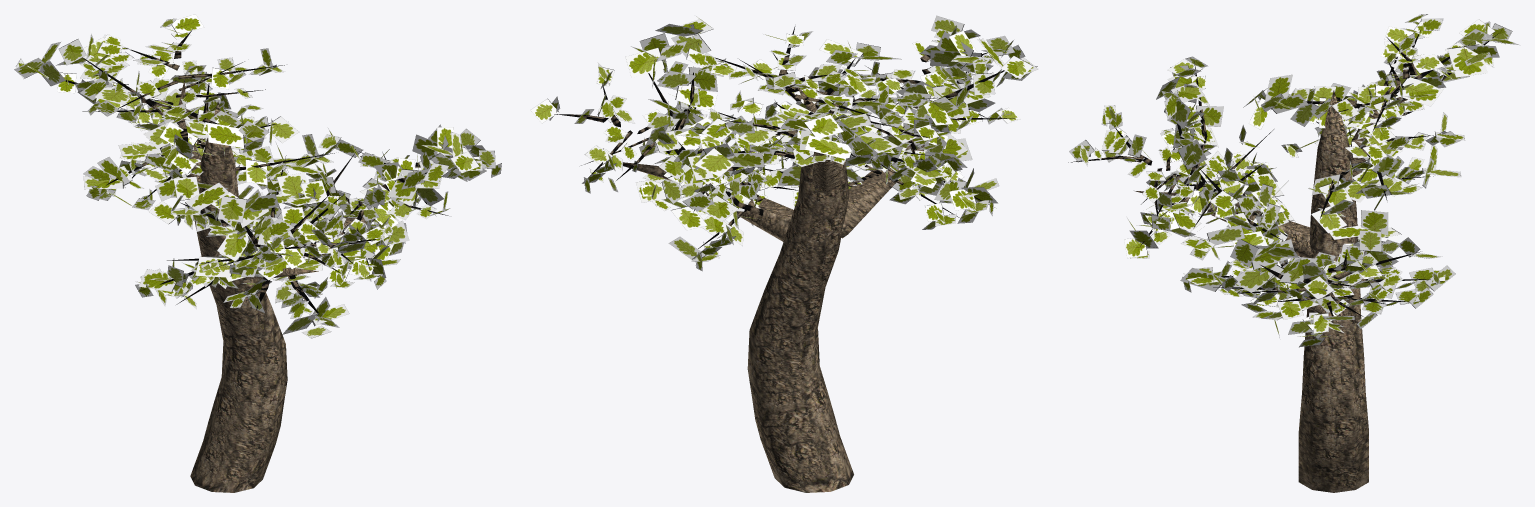
Rendered from OakTree1_LOD1.FBX.
3 views of the same model, side by side, from view 1: azimuth 30°, elevation 25°; view 2: azimuth 150°, elevation 25°; view 3: azimuth 270°, elevation 25° (orthographic). The views are drawn at different scales.
Visible parts, largest first — view 1: Leaf_672, Cylinder073; view 2: Leaf_672, Cylinder073, Galaz2, Galaz3, Galaz1; view 3: Leaf_672, Cylinder073, Galaz2.
Part boxes in pixels (x1,y1,x2,y2): Leaf_672: [14, 14, 501, 338]; Cylinder073: [190, 101, 287, 492]; Leaf_672: [530, 15, 1038, 271]; Cylinder073: [747, 64, 853, 492]; Galaz2: [841, 144, 924, 238]; Galaz3: [623, 162, 793, 241]; Galaz1: [798, 87, 841, 195]; Leaf_672: [1069, 14, 1518, 347]; Cylinder073: [1298, 90, 1368, 492]; Galaz2: [1135, 191, 1313, 257].
Size of the model in its own units: 574 by 612 by 571.
Materials: 3 (3 with a texture image).
